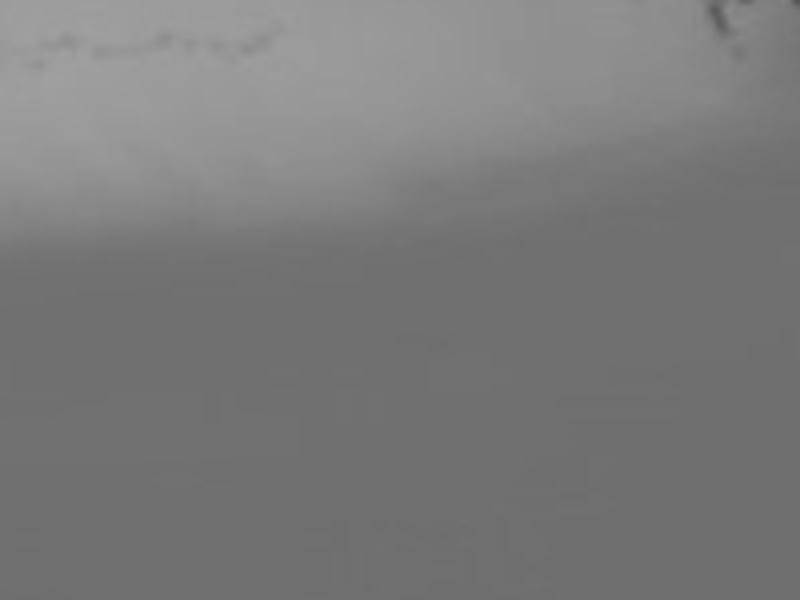defect: (709, 1, 733, 35), (91, 37, 116, 63), (726, 42, 750, 66), (151, 28, 173, 48), (204, 36, 225, 56), (28, 60, 50, 78), (57, 34, 78, 52), (254, 32, 276, 49), (182, 35, 198, 56), (267, 19, 288, 35), (239, 40, 258, 57)
